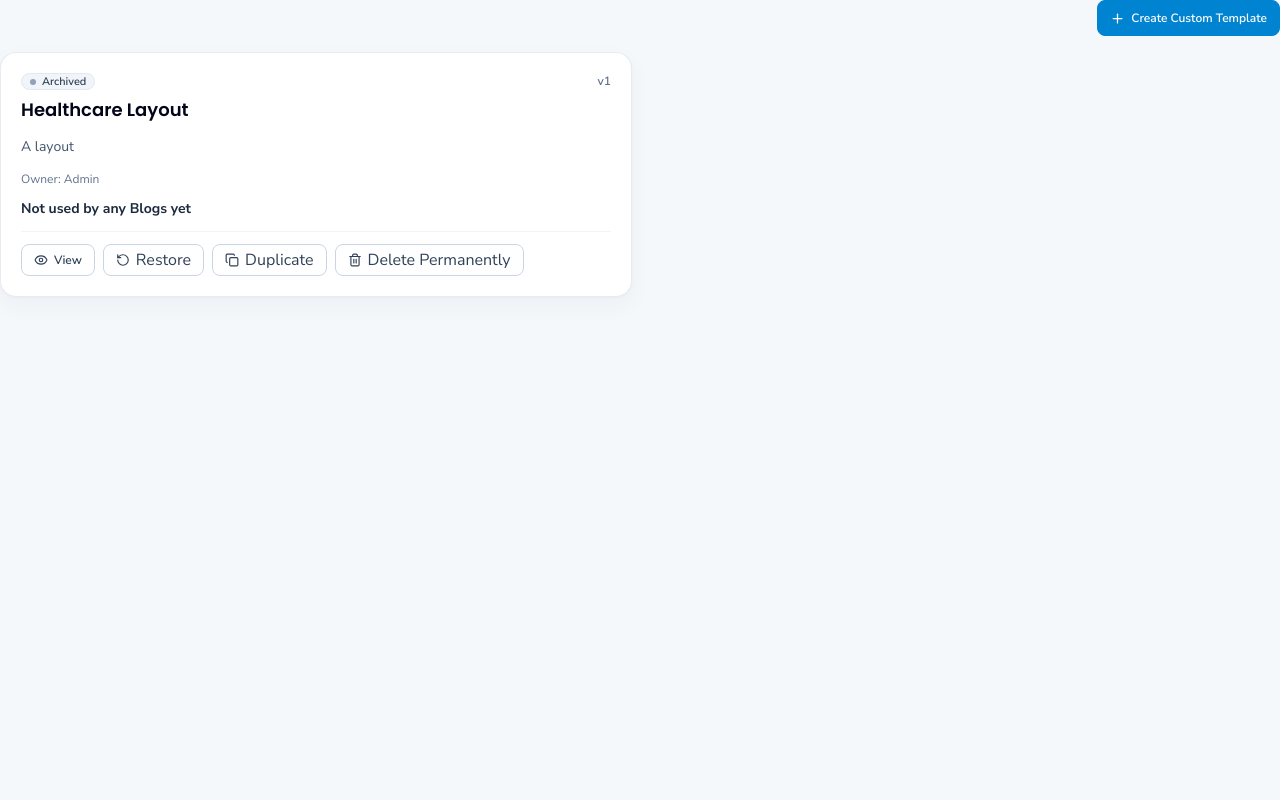
Scenario: CustomTemplatesPanel › surfaces a clear message when permanent delete is rejected as in-use
This screenshot has width=1280, height=800.
Click the button "Delete Permanently".
click(429, 260)  # box [334, 244, 524, 276]
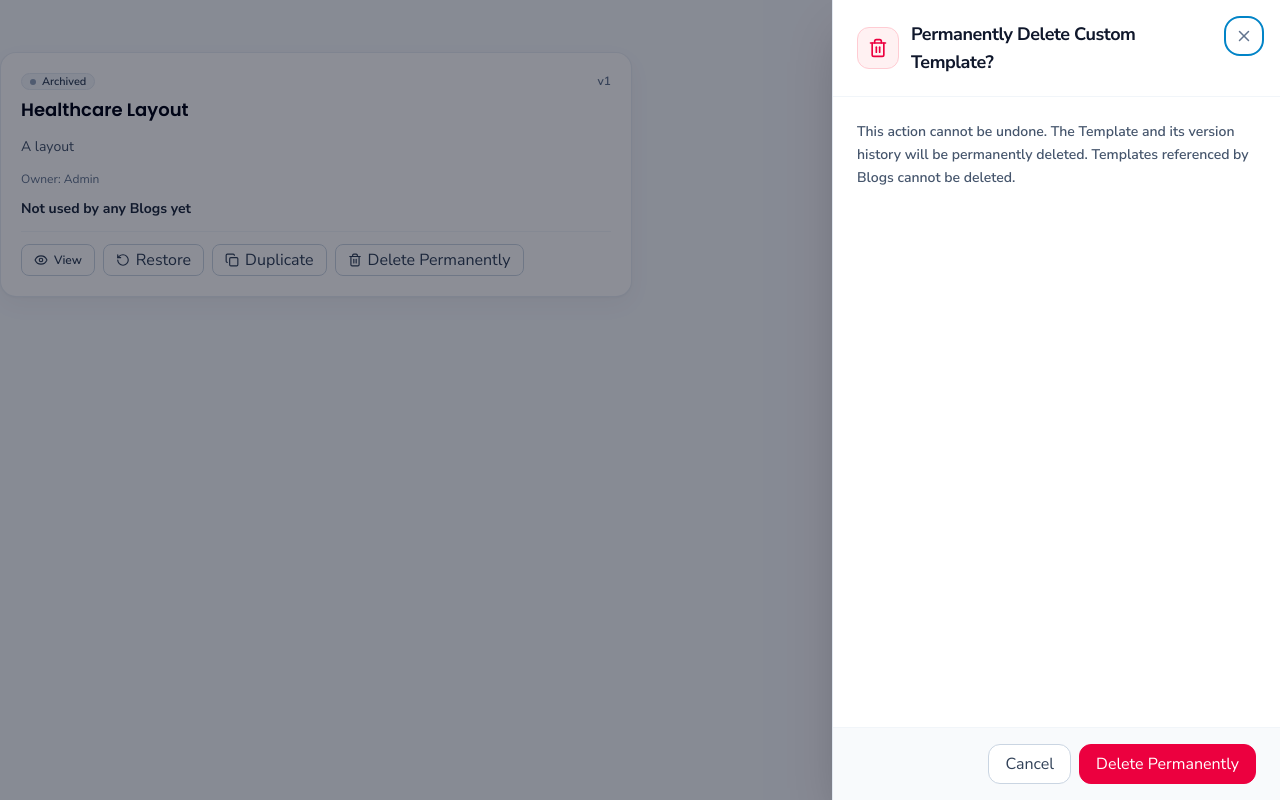
Result: the text "Permanently Delete Custom Template?" is shown at [911, 22, 1135, 74]
Click the button "Delete Permanently".
click(1168, 764)  # box [1079, 744, 1256, 784]
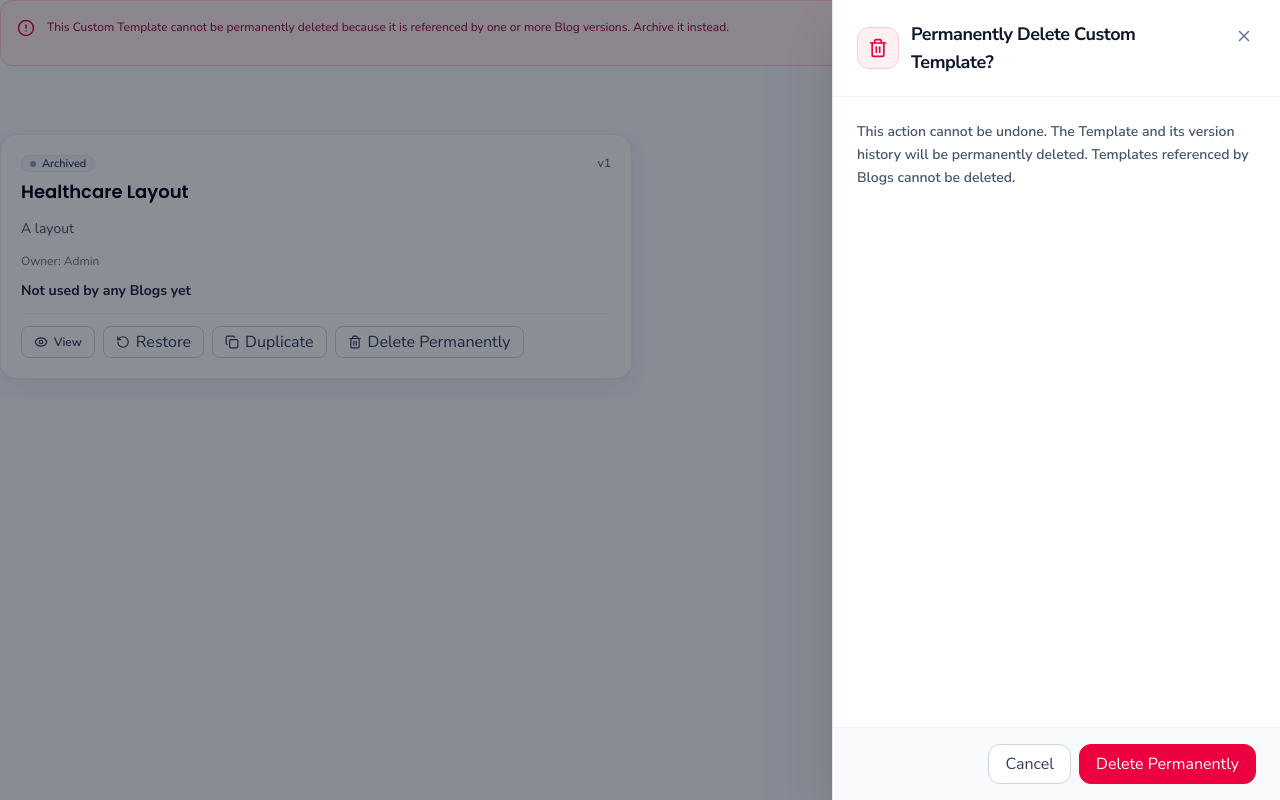
Result: the text "cannot be permanently deleted because it is referenced" is shown at [47, 19, 729, 35]
